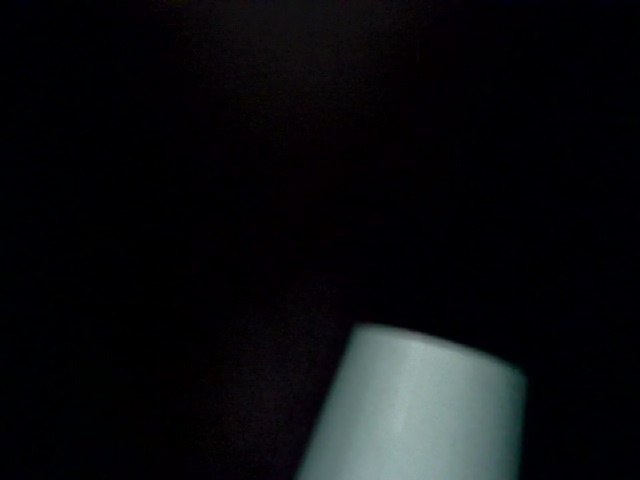KHSLJ: (114, 160, 611, 393)
